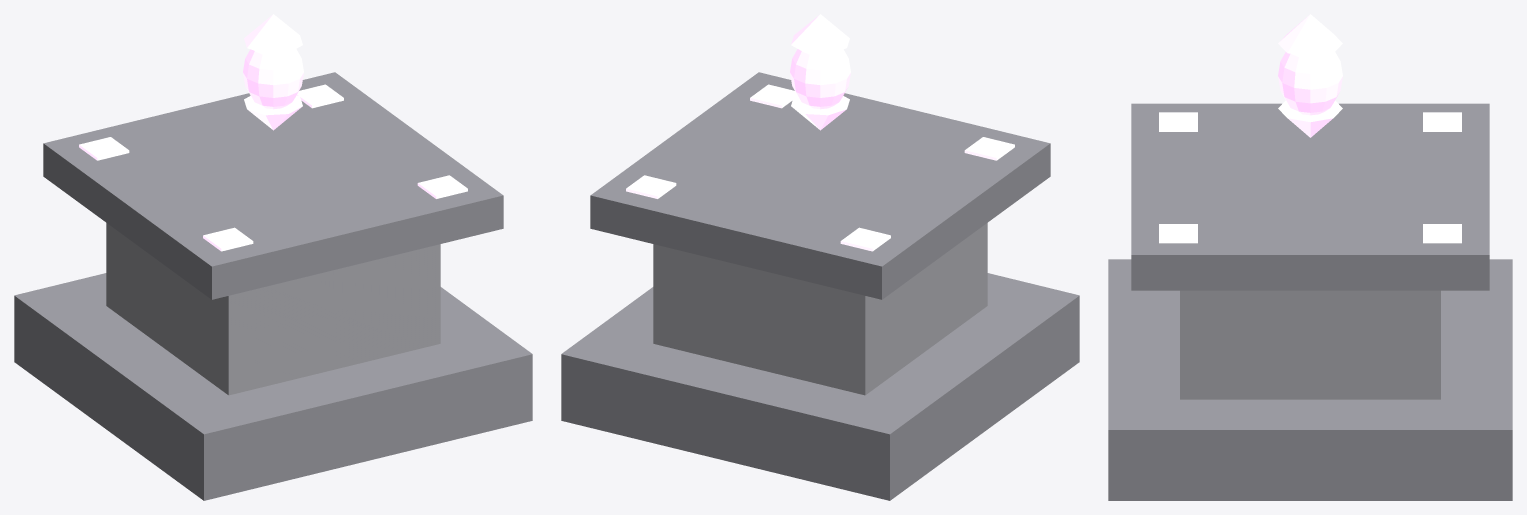
File: struct_altar.glb
3 renders of one model, left to right at view 1: azimuth 30°, elevation 25°; view 2: azimuth 150°, elevation 25°; view 3: azimuth 270°, elevation 25°, orthographic. The views are drawn at different scales.
Parts seen in each view (by area): view 1: AltarBase, AltarGem; view 2: AltarBase, AltarGem; view 3: AltarBase, AltarGem.
Boxes of the visible parts, x1,y1,x2,y2 form: AltarBase: (14,72,532,500); AltarGem: (243,14,303,130); AltarBase: (561,72,1079,500); AltarGem: (790,14,850,130); AltarBase: (1108,103,1512,500); AltarGem: (1278,14,1342,137).
Size of the model in its own units: 1.24 by 1.36 by 1.24.
